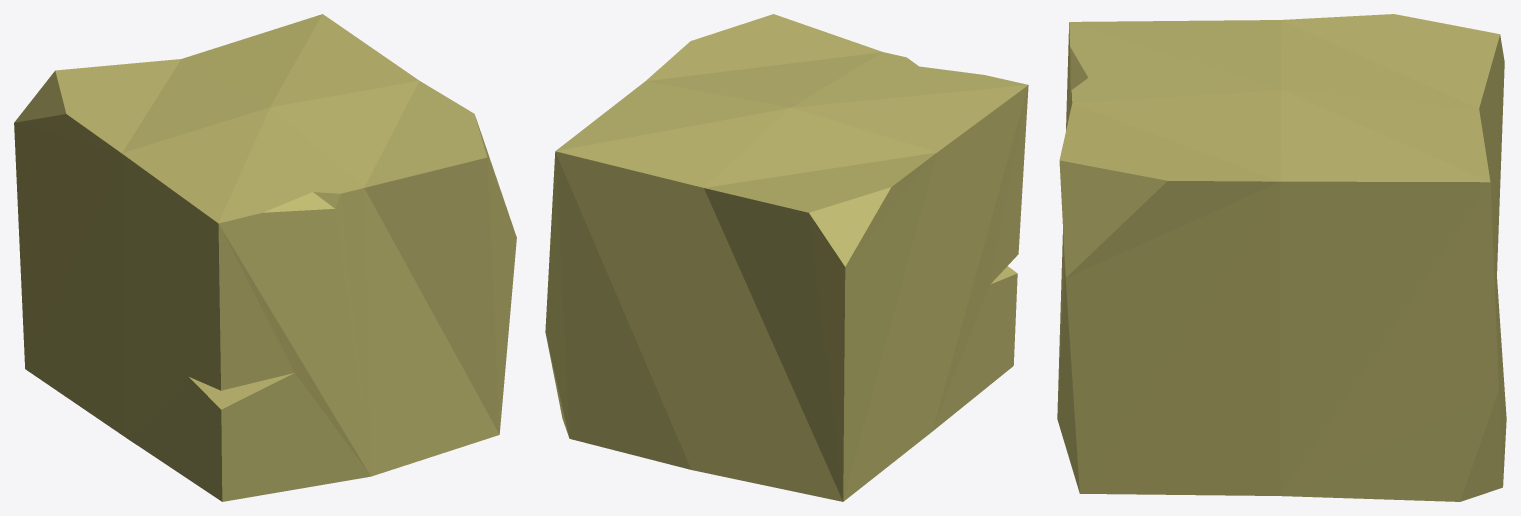
The model's file is Prop_Jungle_Temple_Pillar_Block_03.FBX.
3 views of the same model, side by side, from view 1: azimuth 30°, elevation 25°; view 2: azimuth 150°, elevation 25°; view 3: azimuth 270°, elevation 25° (orthographic). The views are drawn at different scales.
Parts seen in each view (by area): view 1: Prop_Jungle_Temple_Pillar_Block_03; view 2: Prop_Jungle_Temple_Pillar_Block_03; view 3: Prop_Jungle_Temple_Pillar_Block_03.
Boxes of the visible parts, left/top/right/bottom form: Prop_Jungle_Temple_Pillar_Block_03: left=14, top=14, right=516, bottom=501; Prop_Jungle_Temple_Pillar_Block_03: left=545, top=14, right=1028, bottom=501; Prop_Jungle_Temple_Pillar_Block_03: left=1057, top=14, right=1506, bottom=501.
Bounding box in the file's own units: 1967 × 1797 × 2224.
